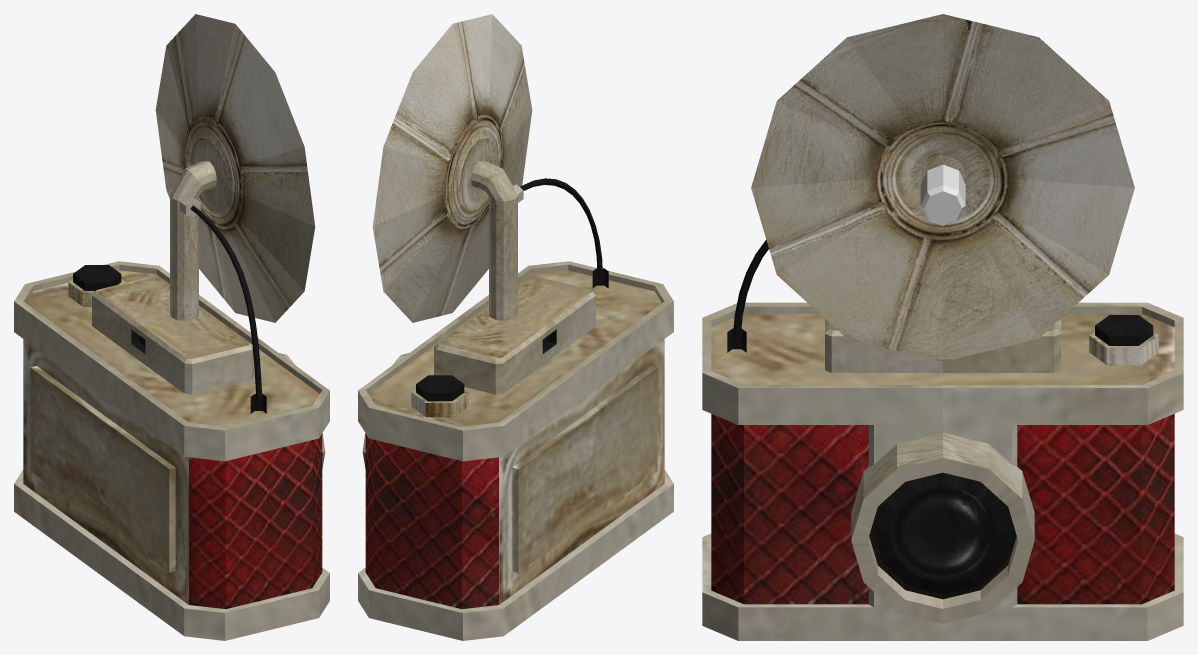
Rendered from camera.glb.
The picture shows the model from 3 angles, left to right: view 1: azimuth 30°, elevation 25°; view 2: azimuth 150°, elevation 25°; view 3: azimuth 270°, elevation 25°; orthographic projection. The views are drawn at different scales.
Visible parts, largest first — view 1: Base, Flash, Cable, Button, Button Outer; view 2: Base, Flash, Button, Button Outer, Cable; view 3: Base, Flash, Lens, Bulb Lamp, Button, Button Outer, Cable.
Part boxes in pixels (x1=…): Base: x1=14, y1=261, x2=329, y2=640; Flash: x1=155, y1=14, x2=315, y2=322; Cable: x1=190, y1=205, x2=262, y2=402; Button: x1=73, y1=265, x2=121, y2=290; Button Outer: x1=68, y1=279, x2=125, y2=306; Base: x1=358, y1=261, x2=673, y2=640; Flash: x1=372, y1=14, x2=532, y2=322; Button: x1=416, y1=375, x2=464, y2=401; Button Outer: x1=411, y1=389, x2=468, y2=417; Cable: x1=520, y1=178, x2=602, y2=277; Base: x1=702, y1=302, x2=1183, y2=640; Flash: x1=751, y1=14, x2=1134, y2=361; Lens: x1=851, y1=433, x2=1034, y2=623; Bulb Lamp: x1=920, y1=164, x2=965, y2=225; Button: x1=1095, y1=315, x2=1153, y2=345; Button Outer: x1=1089, y1=331, x2=1158, y2=365; Cable: x1=732, y1=240, x2=768, y2=339.
Bounding box in the file's own units: 1.3 × 3.41 × 2.4.
Materials: 11 (10 with a texture image).
